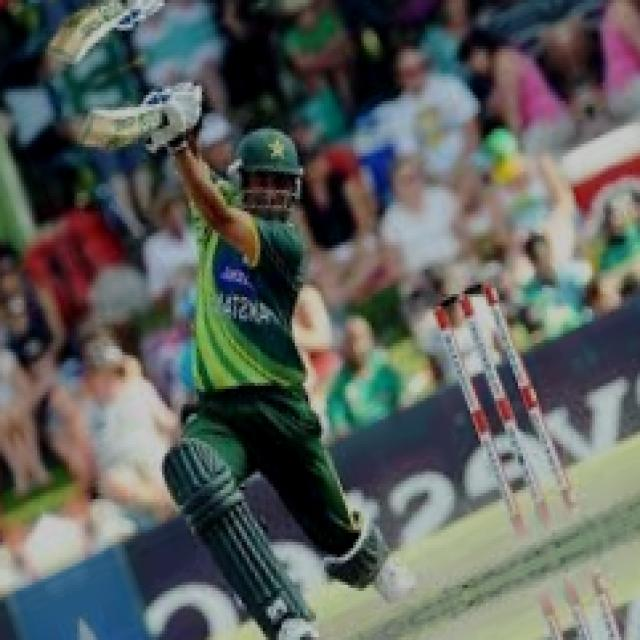toe: (80, 97, 121, 162)
